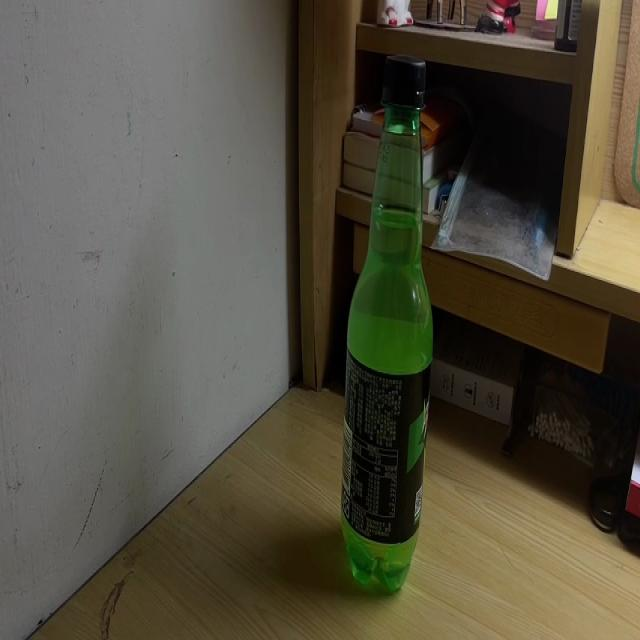Mountain-Dew: (341, 55, 432, 595)
